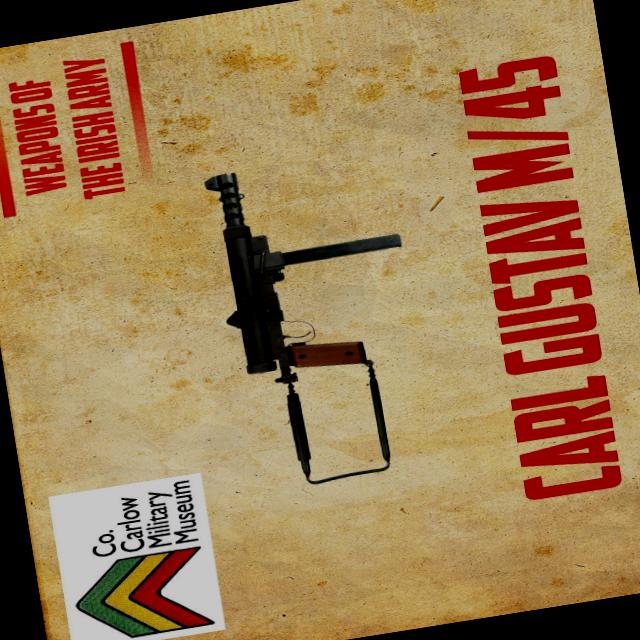long weapon: (173, 151, 423, 493)
